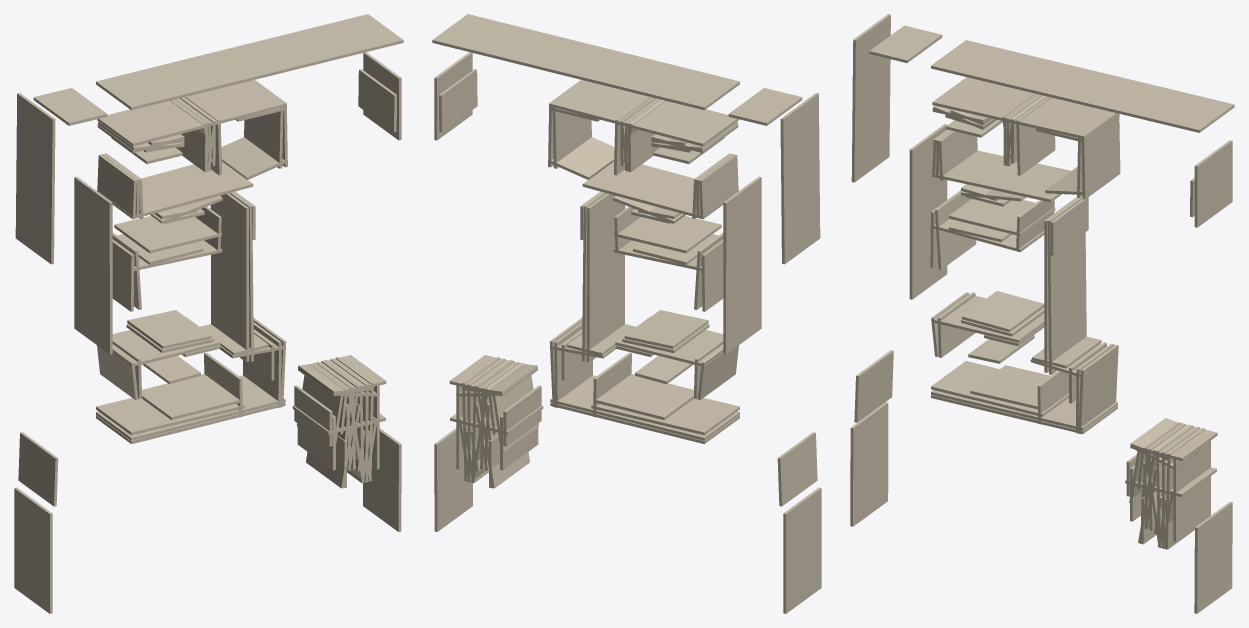
Rendered from walls.obj.
3 renders of one model, left to right at view 1: azimuth 30°, elevation 25°; view 2: azimuth 150°, elevation 25°; view 3: azimuth 330°, elevation 25°, orthographic.
Parts seen in each view (by area): view 1: Walls; view 2: Walls; view 3: Walls.
Boxes of the visible parts, bbox=[...] form: Walls: bbox=[14, 14, 403, 613]; Walls: bbox=[432, 14, 821, 613]; Walls: bbox=[850, 14, 1234, 613].
Bounding box in the file's own units: 15.51 × 20.82 × 2.7.
